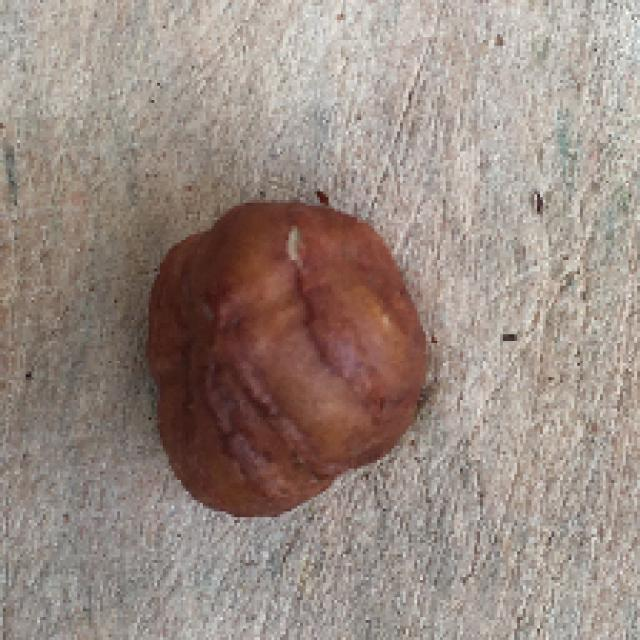hazelnut: (149, 192, 438, 536)
